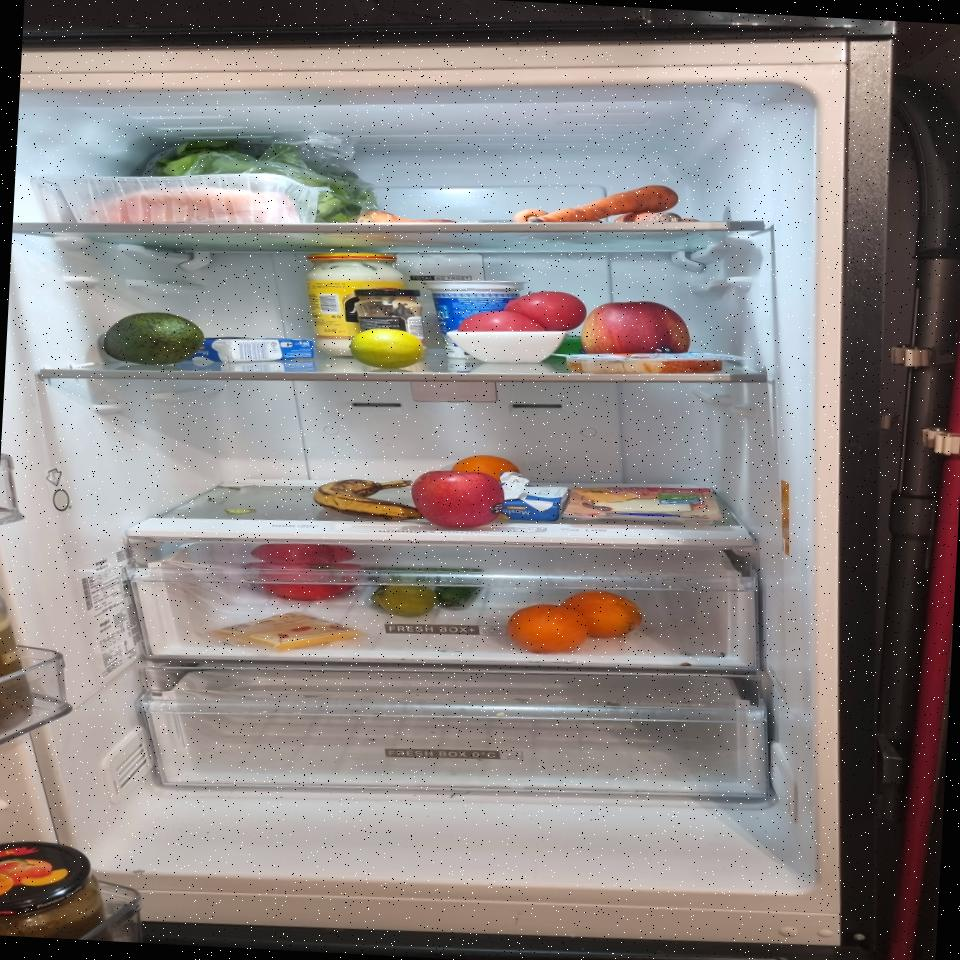Aguacate: (102, 310, 205, 368)
Carne pollo: (42, 162, 330, 235)
Lechuga/Endivia: (139, 130, 381, 228)
Mantequilla: (187, 333, 316, 368), (496, 471, 572, 524)
Manzana: (581, 298, 693, 360), (410, 468, 507, 530)
Pepino: (432, 566, 486, 611)
Plátano: (313, 474, 424, 523)
Queso: (563, 480, 727, 530), (209, 606, 364, 656)
Tomate: (504, 289, 588, 333), (457, 309, 546, 336)
Yogur: (420, 275, 528, 362)
Zanahoria: (513, 177, 701, 232), (356, 209, 460, 231)
